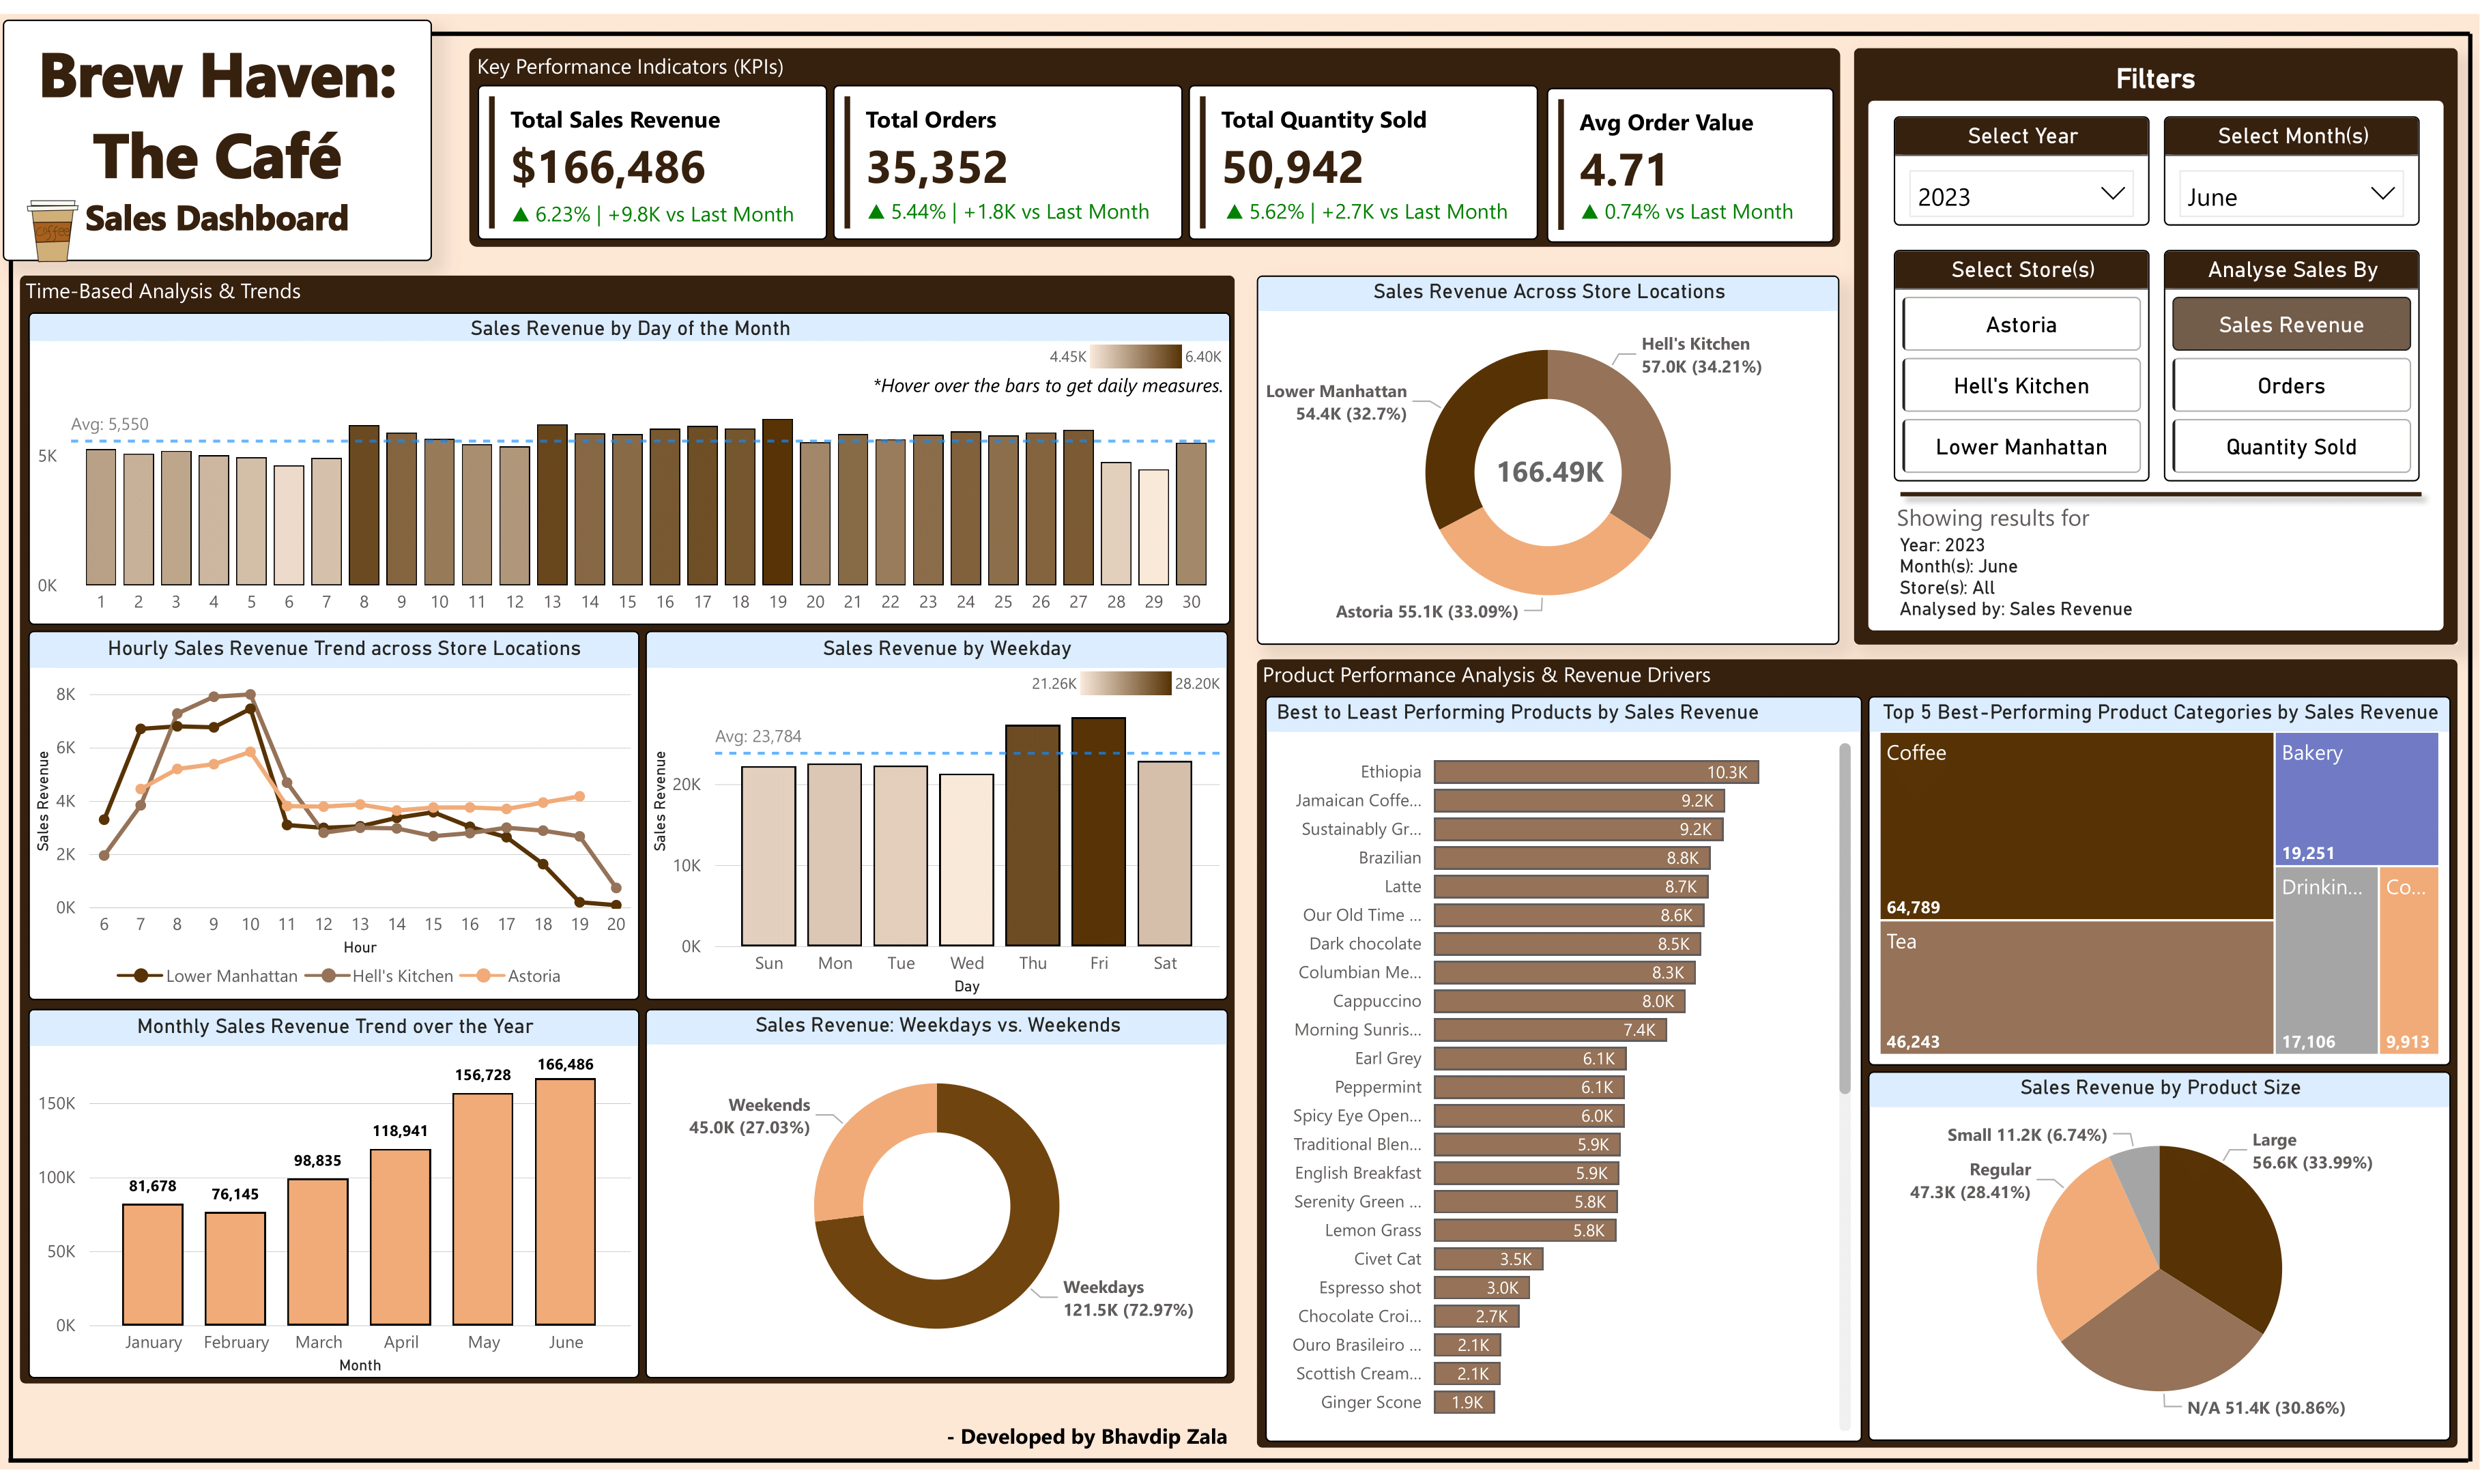

What the dashboard file says about the page in this screenshot:
{"tool":"powerbi","page":{"name":"Dashboard","canvas":[1745,1025],"ordinal":0},"visuals":[{"type":"shape","box":[0,166.2,15.4,853],"z":0},{"type":"shape","box":[300,5,1438,20],"z":1000},{"type":"shape","box":[1305,25,425,420],"z":2000},{"type":"shape","box":[885,455,845,555],"z":3000},{"type":"shape","box":[15,185,855,780],"z":4000},{"type":"textbox","box":[3,5,302,170],"z":5000},{"type":"shape","title":"Key Performance Indicators (KPIs)","box":[330,25,965,140],"z":6000},{"type":"image","box":[0,115,70,75],"z":7000},{"type":"cardVisual","fields":{"Data":["Measures_.Avg Quantity Ordered"]},"box":[837,51,246,109],"z":8000},{"type":"donutChart","fields":{"Y":["Measures_.testkpi"],"Category":["dim_dates.weekday_or_weekend"]},"box":[455,700,410,260],"z":9000},{"type":"cardVisual","fields":{"Data":["Measures_.Avg Order Value"]},"box":[1088,51.1,202,108.9],"z":10000},{"type":"lineChart","fields":{"Series":["dim_stores.store_location"],"Category":["fact_transactions.Hour"],"Y":["Measures_.testkpi"]},"box":[20,435,430,260],"z":11000},{"type":"cardVisual","fields":{"Data":["Measures_.Total Transactions"]},"box":[586,50.6,246,109.4],"z":12000},{"type":"columnChart","fields":{"Category":["dim_dates.weekday_name"],"Y":["Measures_.testkpi"]},"box":[455,435,410,260],"z":13000},{"type":"cardVisual","fields":{"Data":["Measures_.Total Sales Revenue"]},"box":[335.8,50,246,109.4],"z":14000},{"type":"clusteredColumnChart","fields":{"Category":["dim_dates.month_name"],"Y":["Measures_.testkpi"]},"box":[20,700,430,260],"z":15000},{"type":"cardVisual","fields":{"Data":["Measures_.Month on Month Sales Revenue"]},"box":[360,121.3,232.4,31.6],"z":16000},{"type":"cardVisual","fields":{"Data":["Measures_.MoM Sales Orders"]},"box":[611,121,232.2,31],"z":17000},{"type":"donutChart","fields":{"Category":["dim_stores.store_location"],"Y":["Measures_.testkpi"]},"box":[885,185,410,260],"z":18000},{"type":"cardVisual","fields":{"Data":["Measures_.MoM AOV"]},"box":[1113,121,174.4,31],"z":19000},{"type":"columnChart","fields":{"Category":["dim_dates.Date.Variation.Date Hierarchy.Day"],"Y":["Measures_.testkpi"]},"box":[20,210,845.7,220],"z":20000},{"type":"cardVisual","fields":{"Data":["Measures_.MoM AQO"]},"box":[862,121,232,31],"z":21000},{"type":"barChart","fields":{"Category":["dim_products.product_detail"],"Y":["Measures_.testkpi"]},"box":[890,480,420,525],"z":22000},{"type":"treemap","fields":{"Group":["dim_products.product_category"],"Values":["Measures_.testkpi"]},"box":[1315,480,410,260],"z":23000},{"type":"pieChart","fields":{"Category":["dim_products.product_size"],"Y":["Measures_.testkpi"]},"box":[1315,745,410,260],"z":24000},{"type":"shape","title":"Filters","box":[1315,35,405,400],"z":25000},{"type":"slicer","title":"Select Year","fields":{"Values":["dim_dates.year"]},"box":[1332,73,180,77],"z":26000},{"type":"advancedSlicerVisual","title":"Select Store(s)","fields":{"Values":["dim_stores.store_location"]},"box":[1332,166,180,162.9],"z":27000},{"type":"advancedSlicerVisual","title":"Analyse Sales By","fields":{"Values":["selected_metric.Analyse Sales By"]},"box":[1522.9,165.7,180,162.9],"z":28000},{"type":"shape","box":[614,252,251,18],"z":29000},{"type":"card","fields":{"Values":["Measures_.testkpi"]},"box":[1034,293,112,62],"z":30000},{"type":"slicer","title":"Select Month(s)","fields":{"Values":["dim_dates.month_name"]},"box":[1523,73,180,77],"z":31000},{"type":"shape","box":[1328.6,318.6,384.3,40],"z":32000},{"type":"cardVisual","title":"Showing results for","fields":{"Data":["Measures_.current filters"]},"box":[1325,346.7,393.3,108.3],"z":33000},{"type":"shape","box":[1253,338.6,300,31.4],"z":34000},{"type":"shape","box":[23.6,495,23.6,119.1],"z":35000},{"type":"shape","box":[458,495,23.6,119.1],"z":36000},{"type":"textbox","box":[635,990,261.4,30],"z":37000},{"type":"shape","box":[1730,14,15,1005],"z":38000},{"type":"shape","box":[6,1010,1731,15.4],"z":39000}]}

Visuals, with their boxes in screenshot pixels (x1, y1, x2, y2), scaled from the page's 1745x1025 canvas onto the 2480x1484 screenshot:
shape: x1=0 y1=241 x2=22 y2=1476
shape: x1=427 y1=8 x2=2470 y2=36
shape: x1=1855 y1=36 x2=2459 y2=644
shape: x1=1258 y1=658 x2=2459 y2=1462
shape: x1=21 y1=268 x2=1237 y2=1397
textbox: x1=4 y1=8 x2=433 y2=253
"Key Performance Indicators (KPIs)" shape: x1=469 y1=36 x2=1841 y2=239
image: x1=0 y1=166 x2=100 y2=275
cardVisual - Measures_.Avg Quantity Ordered: x1=1189 y1=74 x2=1539 y2=232
donutChart - Measures_.testkpi x dim_dates.weekday_or_weekend: x1=647 y1=1013 x2=1229 y2=1390
cardVisual - Measures_.Avg Order Value: x1=1546 y1=74 x2=1833 y2=232
lineChart - dim_stores.store_location x fact_transactions.Hour: x1=29 y1=630 x2=639 y2=1006
cardVisual - Measures_.Total Transactions: x1=833 y1=73 x2=1183 y2=232
columnChart - dim_dates.weekday_name x Measures_.testkpi: x1=647 y1=630 x2=1229 y2=1006
cardVisual - Measures_.Total Sales Revenue: x1=477 y1=72 x2=827 y2=231
clusteredColumnChart - dim_dates.month_name x Measures_.testkpi: x1=29 y1=1013 x2=639 y2=1390
cardVisual - Measures_.Month on Month Sales Revenue: x1=512 y1=175 x2=842 y2=221
cardVisual - Measures_.MoM Sales Orders: x1=868 y1=175 x2=1198 y2=220
donutChart - dim_stores.store_location x Measures_.testkpi: x1=1258 y1=268 x2=1841 y2=644
cardVisual - Measures_.MoM AOV: x1=1582 y1=175 x2=1830 y2=220
columnChart - dim_dates.Date.Variation.Date Hierarchy.Day x Measures_.testkpi: x1=29 y1=304 x2=1230 y2=622
cardVisual - Measures_.MoM AQO: x1=1225 y1=175 x2=1555 y2=220
barChart - dim_products.product_detail x Measures_.testkpi: x1=1265 y1=695 x2=1862 y2=1455
treemap - dim_products.product_category x Measures_.testkpi: x1=1869 y1=695 x2=2451 y2=1071
pieChart - dim_products.product_size x Measures_.testkpi: x1=1869 y1=1079 x2=2451 y2=1455
"Filters" shape: x1=1869 y1=50 x2=2445 y2=630
"Select Year" slicer: x1=1893 y1=106 x2=2149 y2=217
"Select Store(s)" advancedSlicerVisual: x1=1893 y1=240 x2=2149 y2=476
"Analyse Sales By" advancedSlicerVisual: x1=2164 y1=240 x2=2420 y2=476
shape: x1=873 y1=365 x2=1229 y2=391
card - Measures_.testkpi: x1=1469 y1=424 x2=1629 y2=514
"Select Month(s)" slicer: x1=2165 y1=106 x2=2421 y2=217
shape: x1=1888 y1=461 x2=2434 y2=519
"Showing results for" cardVisual: x1=1883 y1=502 x2=2442 y2=658
shape: x1=1780 y1=490 x2=2207 y2=536
shape: x1=33 y1=716 x2=67 y2=889
shape: x1=651 y1=716 x2=684 y2=889
textbox: x1=902 y1=1434 x2=1274 y2=1476
shape: x1=2459 y1=20 x2=2479 y2=1475
shape: x1=8 y1=1462 x2=2468 y2=1483
